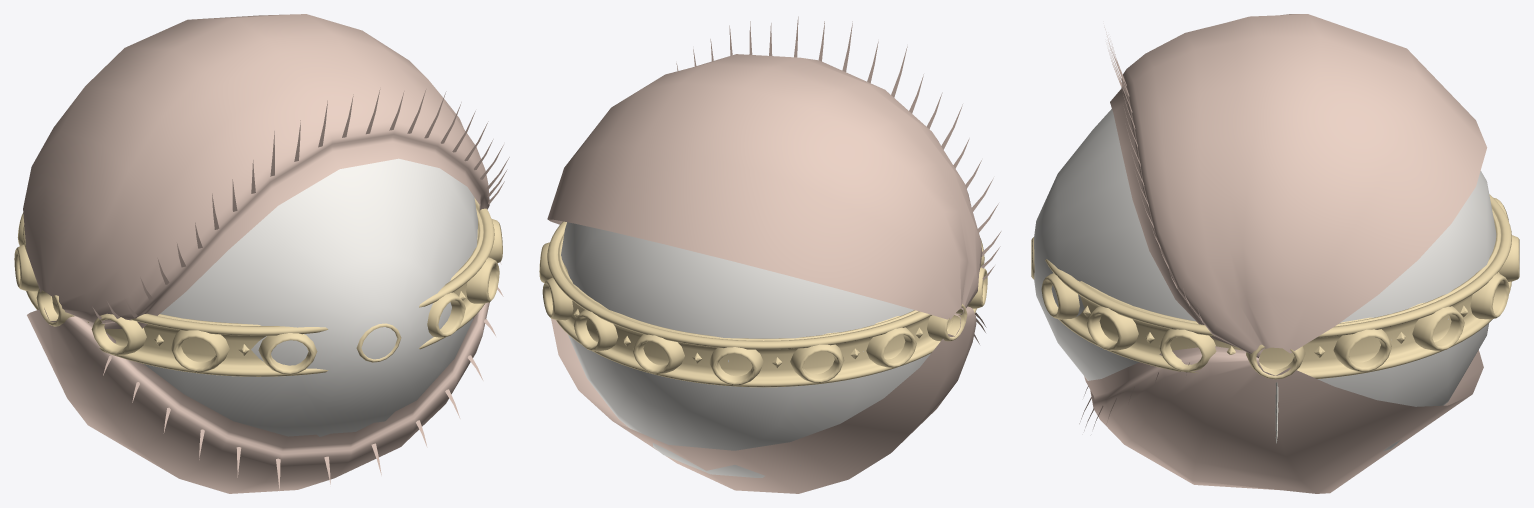
The model's file is ophan.glb.
3 renders of one model, left to right at view 1: azimuth 30°, elevation 25°; view 2: azimuth 150°, elevation 25°; view 3: azimuth 270°, elevation 25°, orthographic. The views are drawn at different scales.
Visible parts, largest first — view 1: Lids, Eyeball, Ring; view 2: Lids, Eyeball, Ring; view 3: Lids, Eyeball, Ring.
Part boxes in pixels (x1,y1,x2,y2): Lids: [23, 14, 509, 493]; Eyeball: [144, 158, 477, 436]; Ring: [14, 198, 502, 376]; Lids: [547, 16, 1001, 493]; Eyeball: [561, 222, 930, 477]; Ring: [539, 221, 987, 387]; Lids: [1079, 14, 1487, 493]; Eyeball: [1034, 109, 1496, 451]; Ring: [1031, 194, 1519, 379].
Size of the model in its own units: 2.3 by 2.12 by 2.17.
